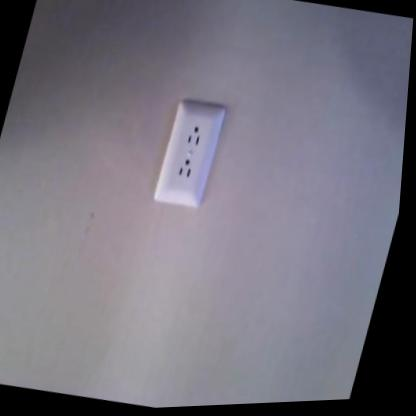OUTLET: (150, 96, 228, 212)
